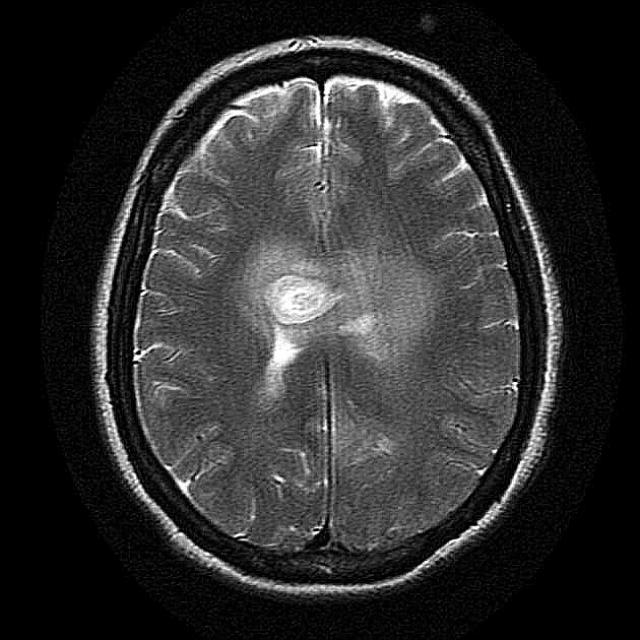Tumor-Cell: (246, 249, 377, 385)
